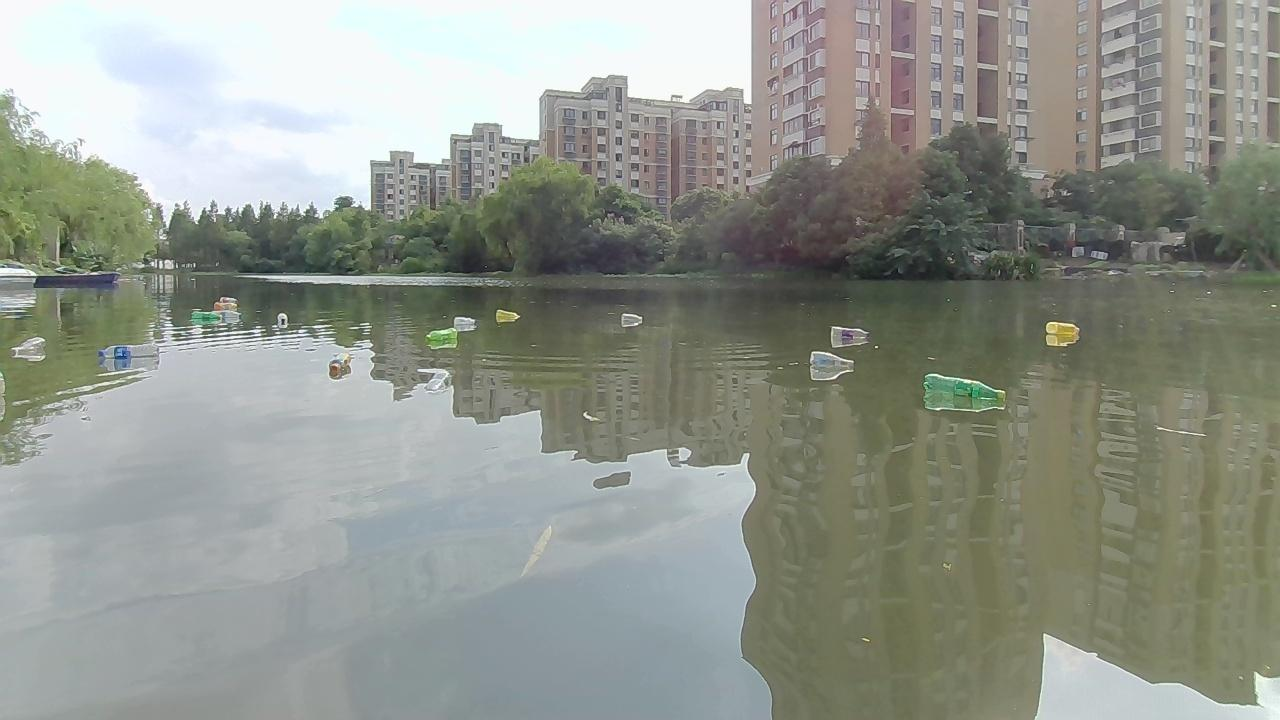bottle: (921, 368, 1006, 405), (93, 341, 163, 362), (807, 346, 855, 376), (10, 334, 48, 361), (826, 322, 868, 343), (323, 347, 351, 377), (421, 370, 451, 395), (1046, 319, 1083, 337), (190, 309, 223, 327), (214, 305, 242, 325), (423, 327, 455, 343), (619, 310, 647, 327), (217, 294, 243, 311), (492, 306, 519, 322), (450, 314, 480, 327)
